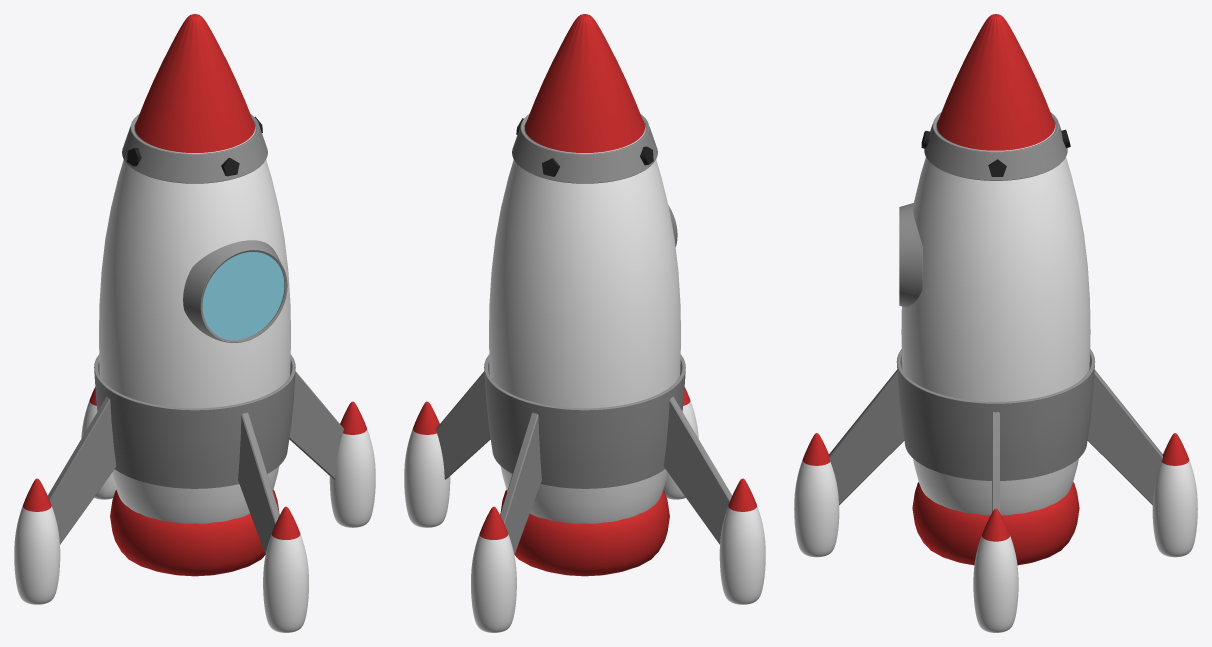
File: rocket_tfya65.FBX
3 views of the same model, side by side, from view 1: azimuth 30°, elevation 25°; view 2: azimuth 150°, elevation 25°; view 3: azimuth 270°, elevation 25° (orthographic).
Parts seen in each view (by area): view 1: Cylinder001, Object002, Torus001, Cylinder006, Cylinder005, Cylinder003, Box003, Object001, Cylinder004, Box004, Box001, Object003 (+1 smaller); view 2: Cylinder001, Object002, Torus001, Cylinder005, Cylinder002, Box003, Object001, Cylinder004, Box004, Box002, Cylinder003; view 3: Cylinder001, Object002, Torus001, Box001, Box002, Cylinder004, Cylinder002, Cylinder003, Object001, Object003, Box004.
Part boxes in pixels (x1,y1,x2,y2): Cylinder001: [99, 14, 290, 523]; Object002: [94, 354, 295, 488]; Torus001: [110, 490, 279, 576]; Cylinder006: [202, 252, 284, 339]; Cylinder005: [14, 478, 60, 604]; Cylinder003: [263, 506, 308, 632]; Box003: [47, 396, 116, 544]; Object001: [122, 114, 267, 183]; Cylinder004: [329, 401, 375, 527]; Box004: [289, 371, 343, 479]; Box001: [238, 412, 279, 554]; Object003: [183, 240, 287, 342]; Cylinder001: [489, 14, 680, 523]; Object002: [484, 354, 685, 488]; Torus001: [500, 490, 669, 576]; Cylinder005: [719, 478, 765, 604]; Cylinder002: [471, 506, 516, 632]; Box003: [663, 396, 732, 544]; Object001: [512, 114, 657, 183]; Cylinder004: [404, 401, 450, 527]; Box004: [436, 371, 490, 479]; Box002: [500, 412, 541, 554]; Cylinder003: [663, 387, 698, 499]; Cylinder001: [901, 14, 1090, 515]; Object002: [896, 349, 1095, 480]; Torus001: [912, 482, 1079, 565]; Box001: [829, 369, 904, 505]; Box002: [1087, 369, 1162, 505]; Cylinder004: [973, 509, 1018, 632]; Cylinder002: [1152, 433, 1197, 557]; Cylinder003: [794, 433, 839, 557]; Object001: [924, 112, 1067, 180]; Object003: [899, 203, 923, 307]; Box004: [992, 412, 999, 512].
Bounding box in the file's own units: 113 × 165 × 113.
